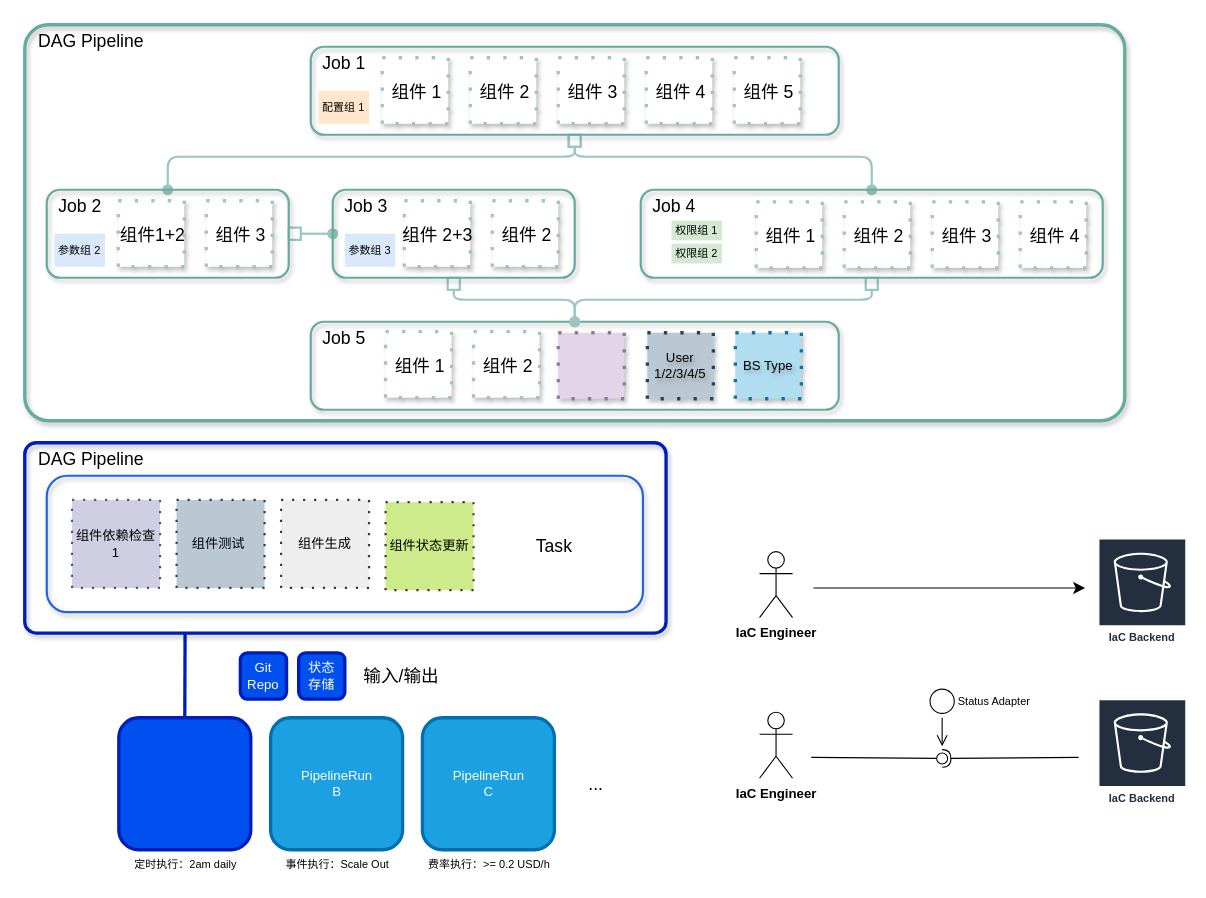
This 1206x898 diagram has some shape labels left out. The centre of each missing label's shape, as x and y in pixels:
"PipelineRun A" goes at [184,783].
"WS 1" goes at [592,367].
